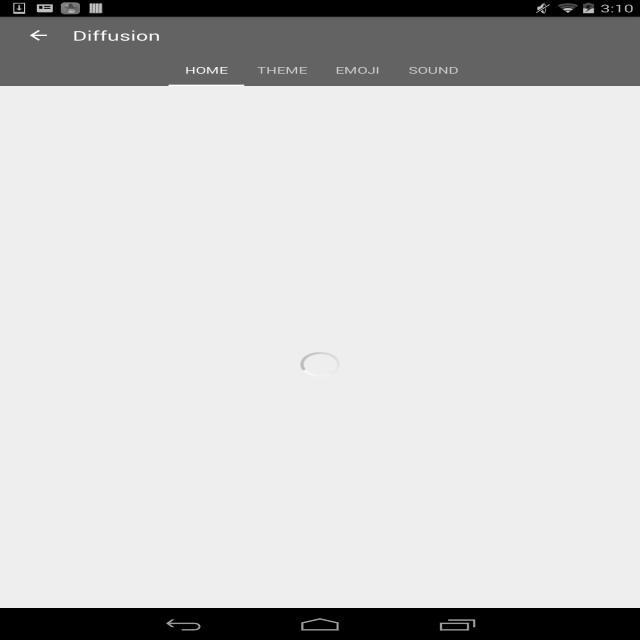ImageButton: (9, 17, 68, 54), (266, 378, 312, 408), (582, 378, 628, 408)
ImageView: (4, 89, 636, 206), (11, 238, 312, 378), (328, 238, 628, 378), (11, 554, 312, 640), (327, 554, 628, 640), (288, 423, 347, 483), (300, 196, 314, 200), (288, 196, 301, 200), (326, 196, 339, 200), (339, 196, 352, 200), (314, 196, 326, 200)
TextView: (13, 210, 551, 228), (13, 527, 551, 545), (9, 494, 632, 507), (12, 386, 266, 400), (328, 386, 582, 400), (72, 26, 160, 44), (257, 64, 307, 76), (408, 64, 458, 76), (335, 64, 380, 76), (185, 64, 228, 76)
